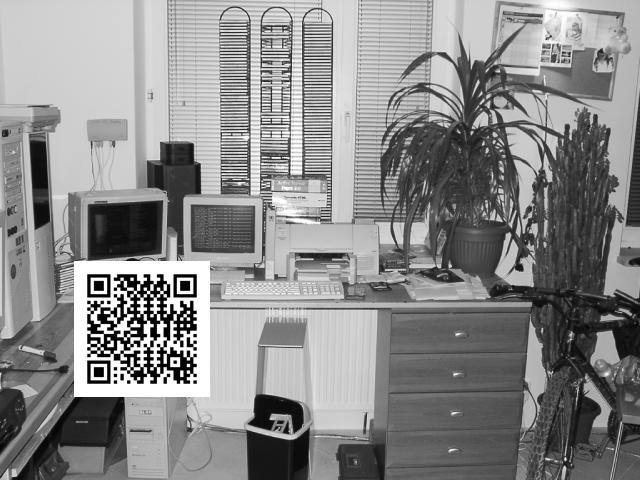qr_code: (75, 262, 210, 395)
